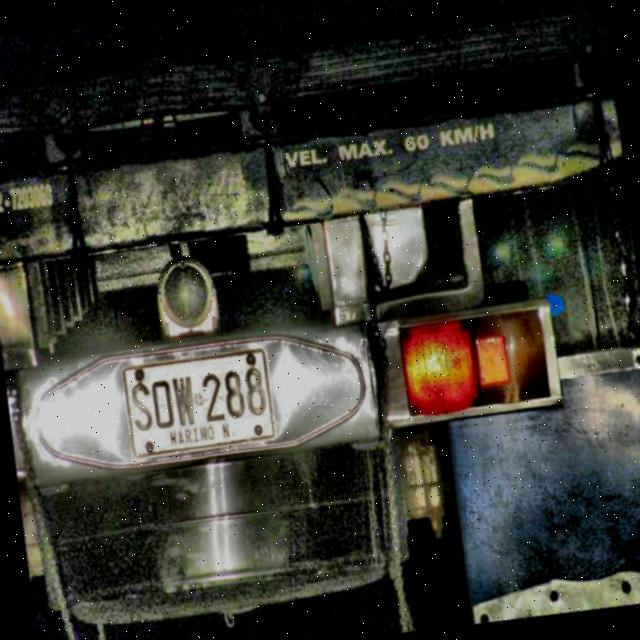plate: (123, 349, 276, 457)
